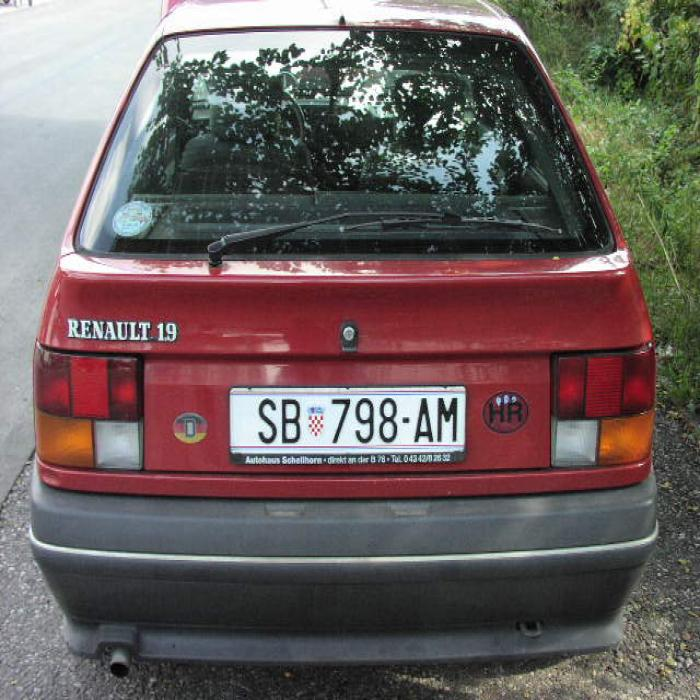number_plate: (228, 390, 464, 450)
